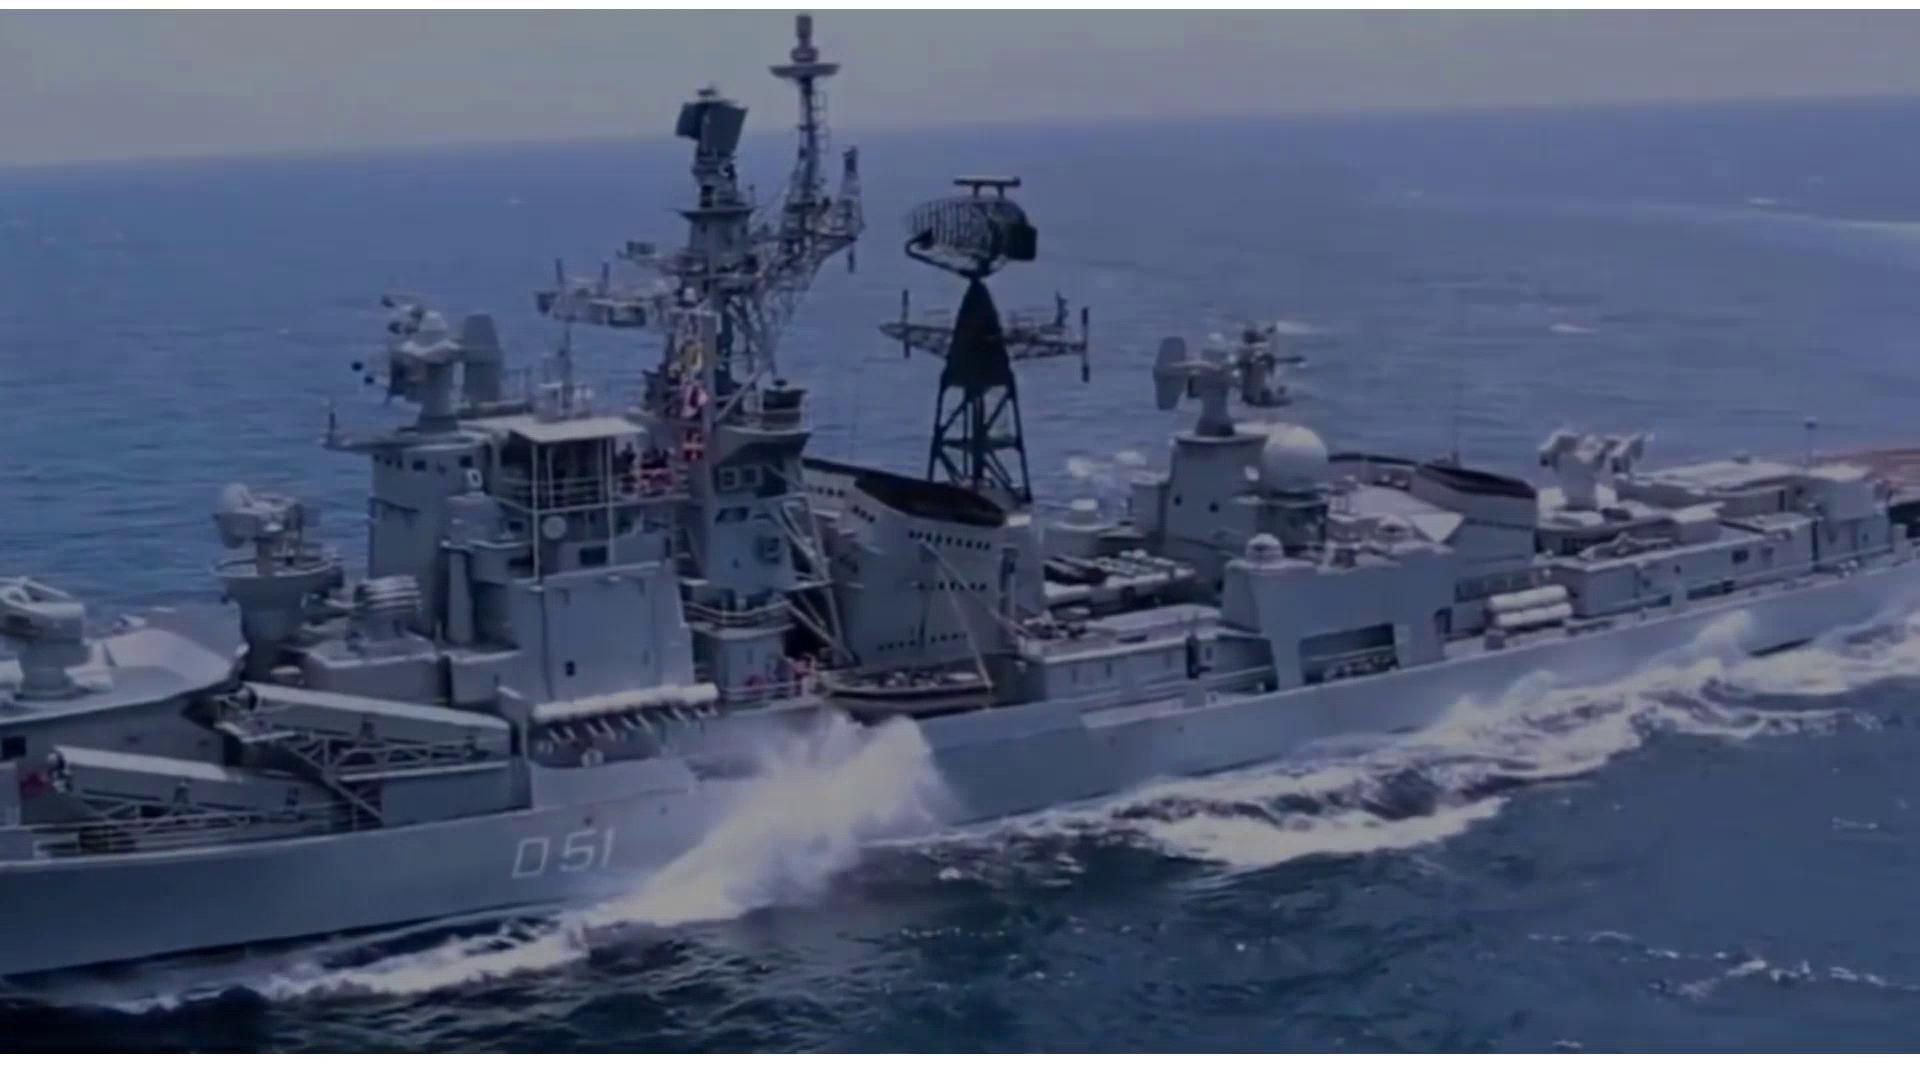OCR: (484, 807, 634, 894)
